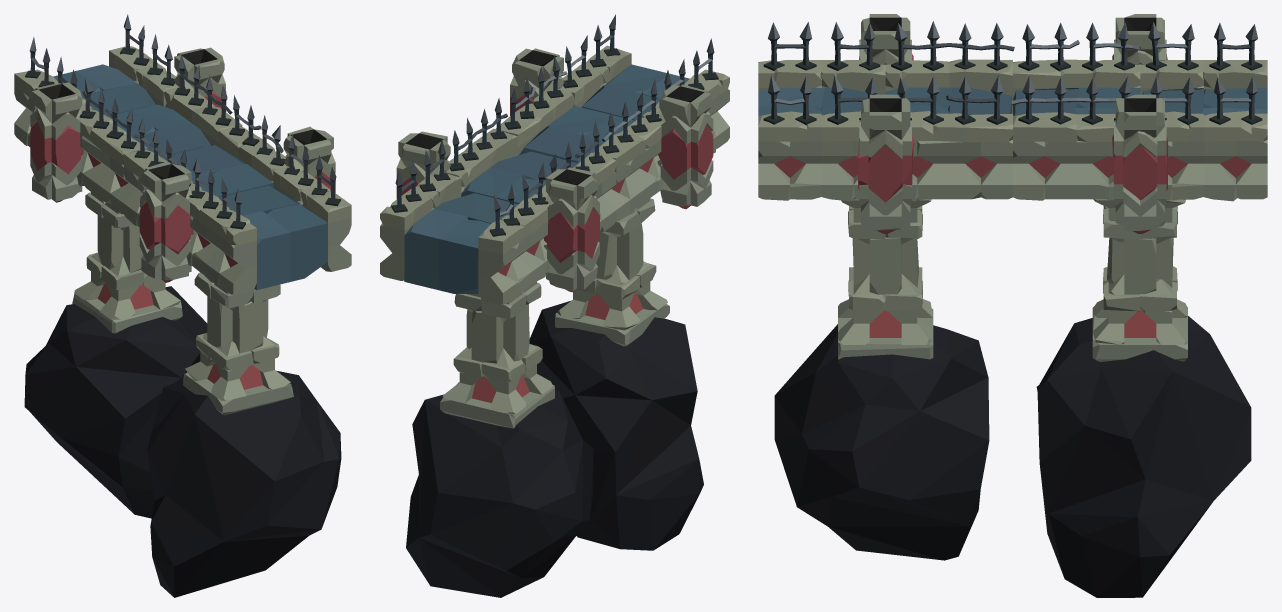
File: bridge_I_01.fbx
The picture shows the model from 3 angles, left to right: view 1: azimuth 30°, elevation 25°; view 2: azimuth 150°, elevation 25°; view 3: azimuth 270°, elevation 25°; orthographic projection. The views are drawn at different scales.
Parts seen in each view (by area): view 1: bridge_I_01; view 2: bridge_I_01; view 3: bridge_I_01.
Part boxes in pixels (bbox=[...]): bridge_I_01: bbox=[14, 14, 351, 597]; bridge_I_01: bbox=[380, 14, 729, 597]; bridge_I_01: bbox=[758, 14, 1267, 597].
Size of the model in its own units: 390 by 893 by 800.
